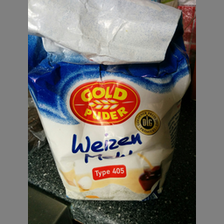flour: (28, 1, 191, 201)
